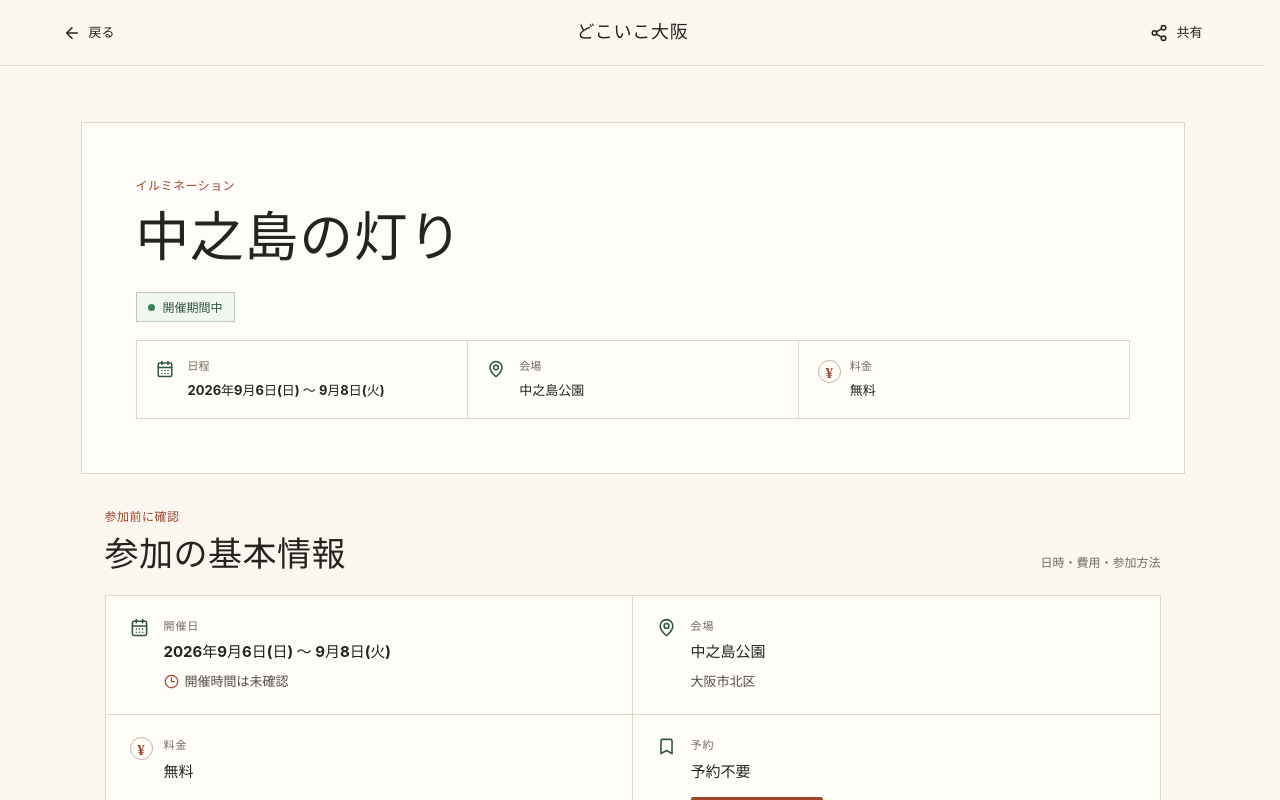
Test: EventDetailPage › falls back to copying the canonical URL when native share is unavailable
The image size is (1280, 800).
Click the button "共有". click: {"x": 1176, "y": 32}
box: [1140,10,1212,54]
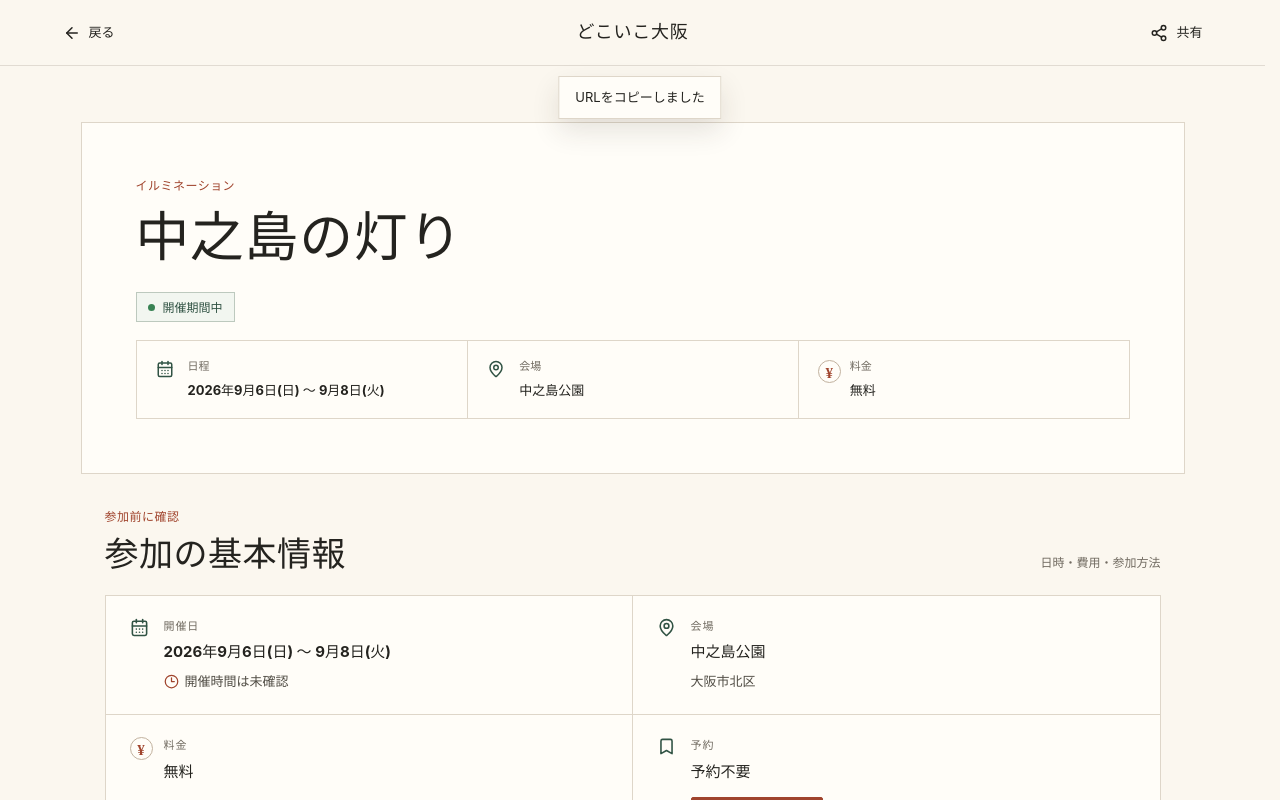
Check: the text "URLをコピーしました" is shown, box [558,76,722,119]
